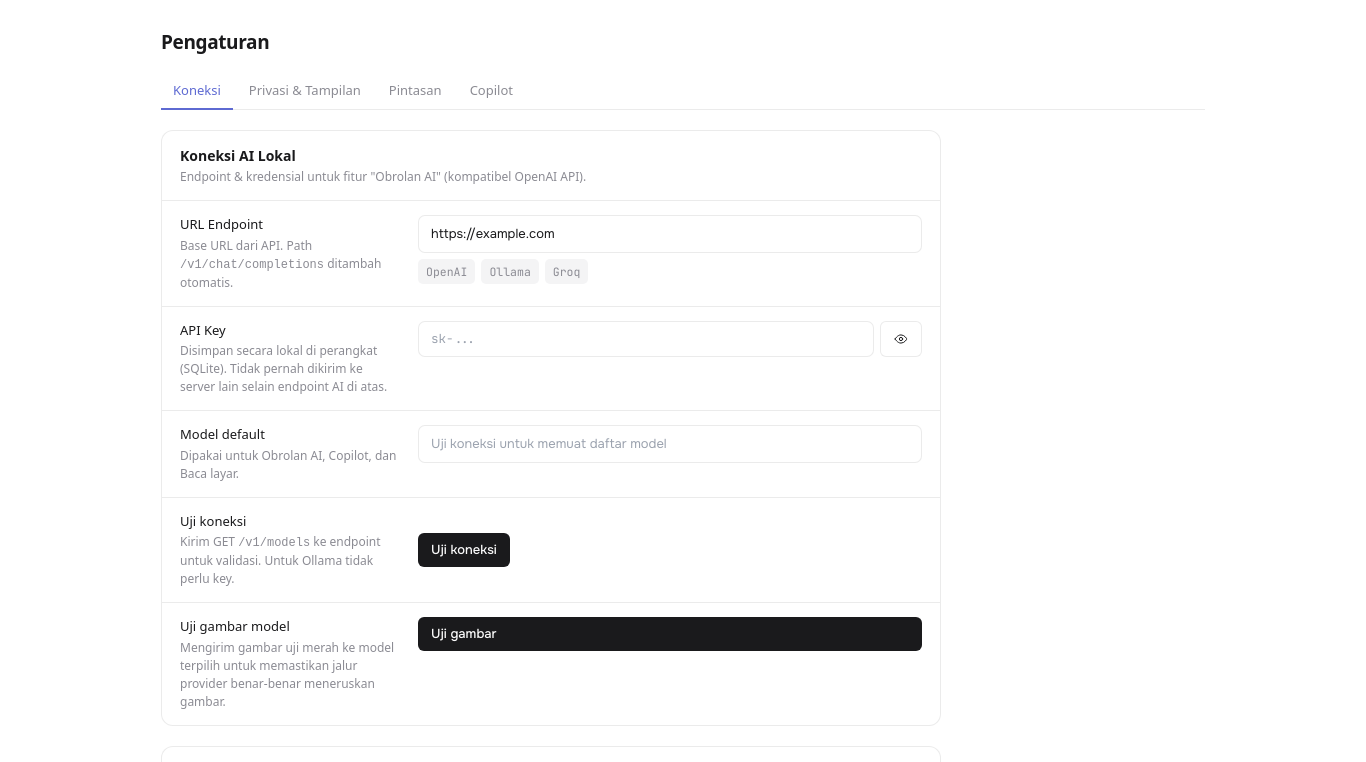
Test case: AI model selection › tests actual image delivery for the selected model
This screenshot has width=1366, height=762.
What coordinates should you click on to do the following:
click the button "Uji koneksi"
I would click on:
 (464, 550)
Its box is [418,533,510,566].
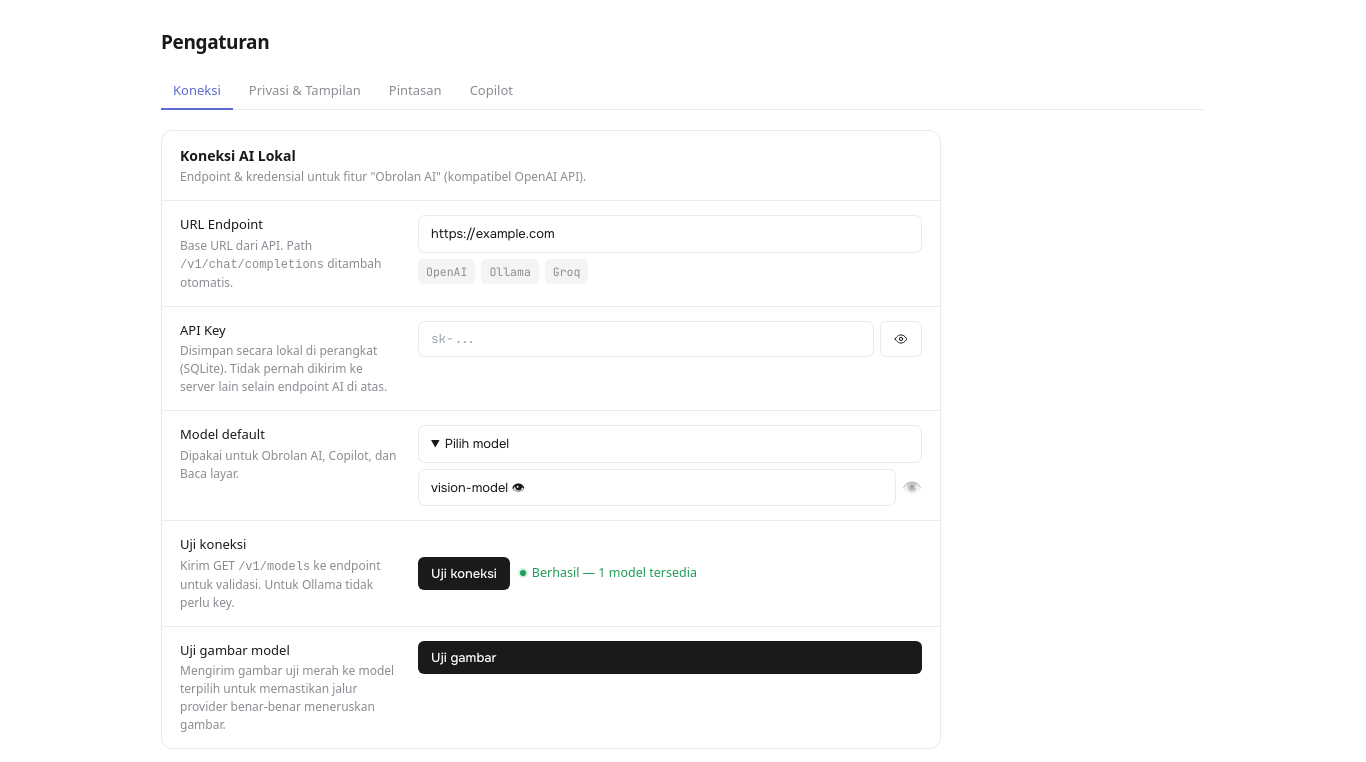
What coordinates should you click on to do the following:
click the button "vision-model 👁"
I would click on:
 (471, 487)
Its box is [418,468,896,506].
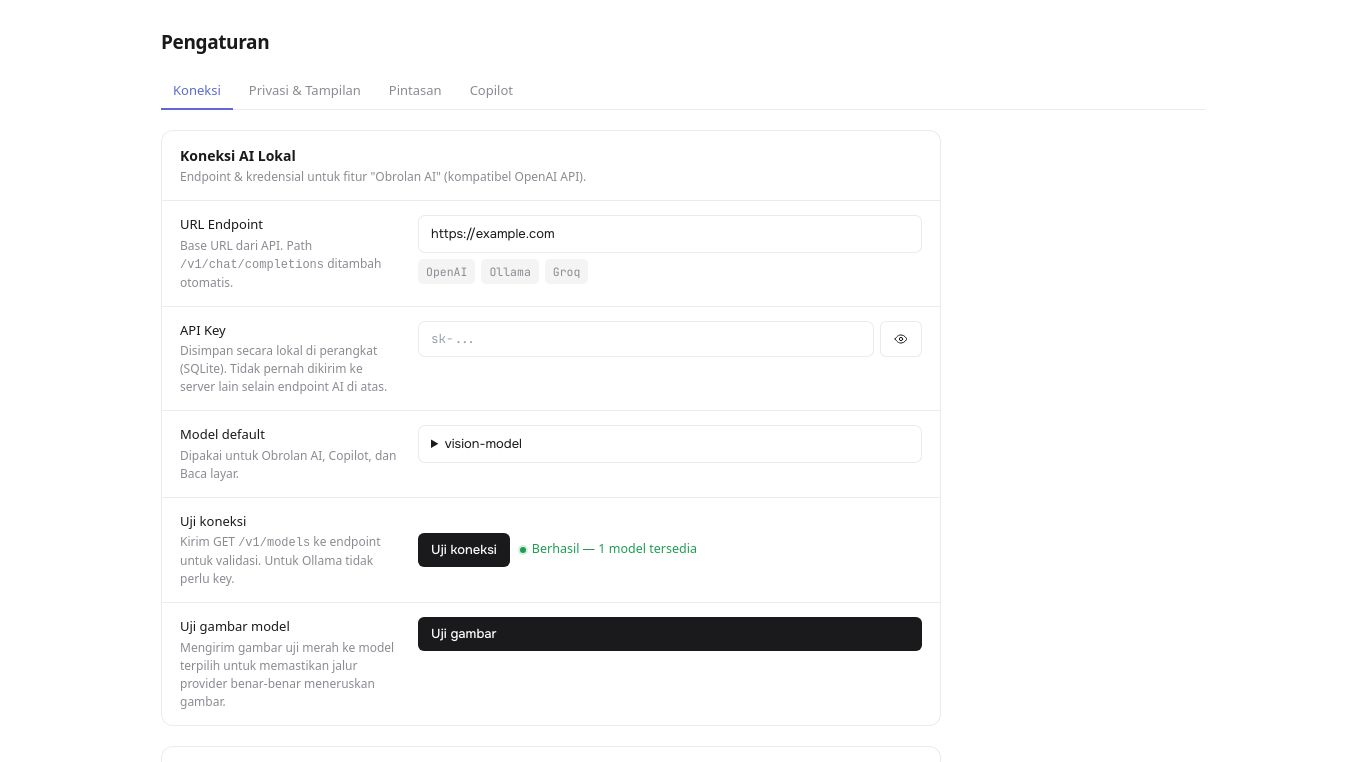
What coordinates should you click on to do the following:
click the button "Uji gambar"
I would click on:
 (464, 634)
Its box is [418,617,922,650].
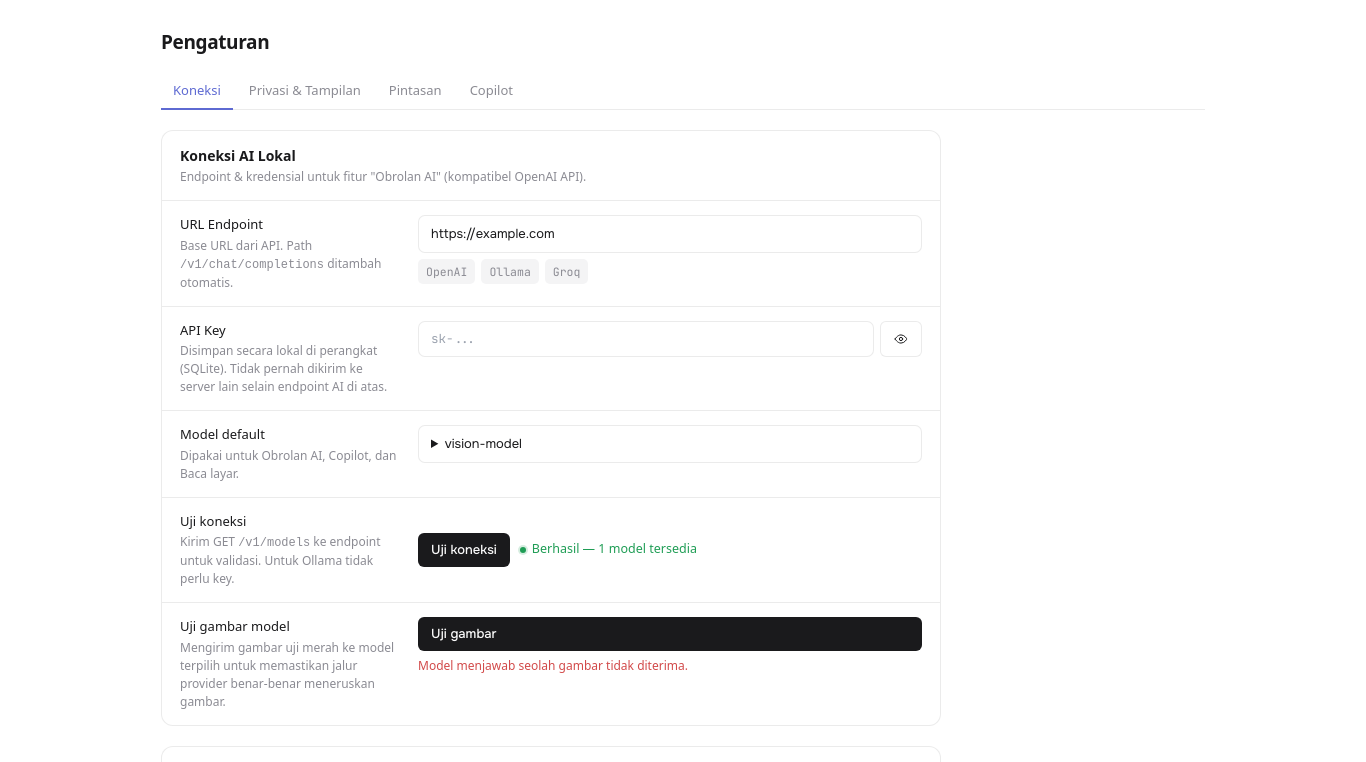
Result: the message shows "gambar tidak diterima" at [418,656,688,674]
